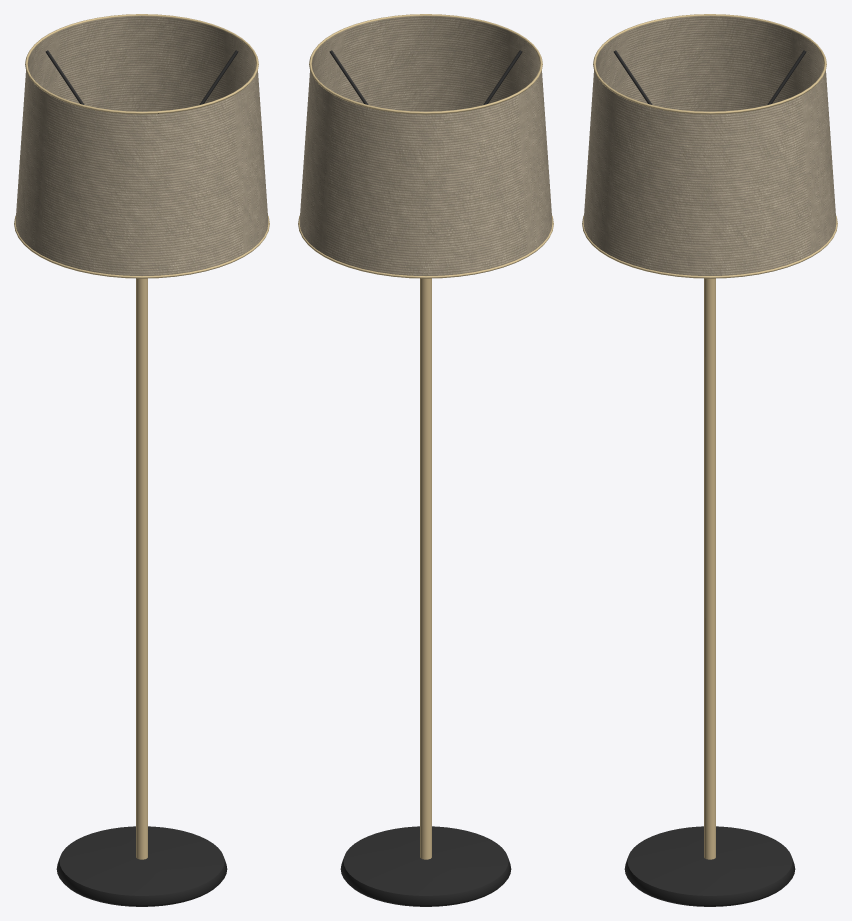
File: lamp_floor_01.glb
3 renders of one model, left to right at view 1: azimuth 30°, elevation 25°; view 2: azimuth 150°, elevation 25°; view 3: azimuth 270°, elevation 25°, orthographic.
Parts seen in each view (by area): view 1: pantalla, pantalla_int, base, vastago, pantalla_aro.001, pantalla_aro; view 2: pantalla, pantalla_int, base, vastago, pantalla_aro.001, pantalla_aro; view 3: pantalla, pantalla_int, base, vastago, pantalla_aro.001, pantalla_aro.
Part boxes in pixels (x1=…): pantalla: x1=15, y1=48, x2=268, y2=275; pantalla_int: x1=28, y1=16, x2=255, y2=111; base: x1=56, y1=826, x2=227, y2=906; vastago: x1=136, y1=278, x2=147, y2=859; pantalla_aro.001: x1=25, y1=14, x2=258, y2=114; pantalla_aro: x1=14, y1=215, x2=269, y2=278; pantalla: x1=299, y1=48, x2=552, y2=275; pantalla_int: x1=312, y1=16, x2=539, y2=111; base: x1=340, y1=826, x2=511, y2=906; vastago: x1=420, y1=278, x2=431, y2=859; pantalla_aro.001: x1=309, y1=14, x2=542, y2=114; pantalla_aro: x1=298, y1=215, x2=553, y2=278; pantalla: x1=583, y1=48, x2=836, y2=275; pantalla_int: x1=596, y1=16, x2=823, y2=111; base: x1=624, y1=826, x2=795, y2=906; vastago: x1=704, y1=278, x2=715, y2=859; pantalla_aro.001: x1=593, y1=14, x2=826, y2=114; pantalla_aro: x1=582, y1=215, x2=837, y2=278.
Bounding box in the file's own units: 0.465 × 1.62 × 0.465.
5 materials, 1 textured.
